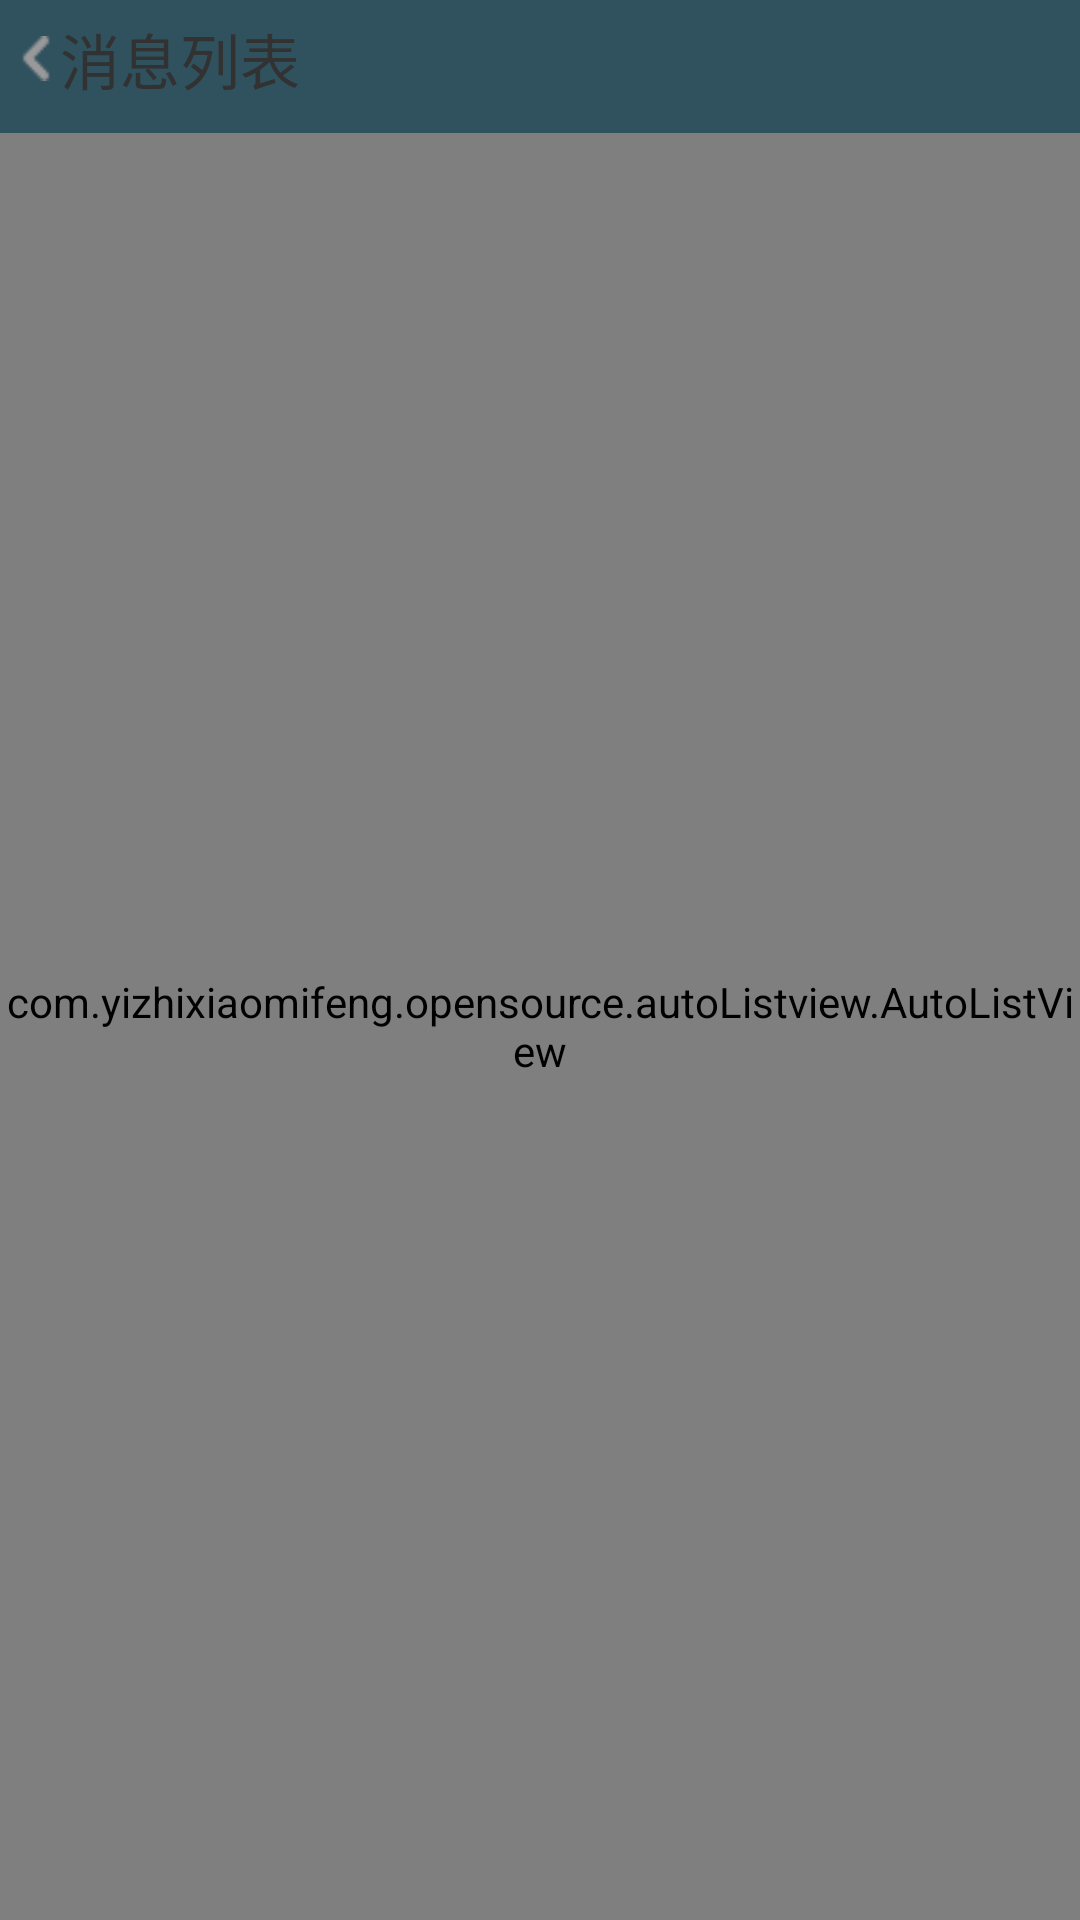

Named icons in this screenshot (1080px×1920px) and their bounding boxes, (x1, y1, x2, y2):
left: (23, 36, 49, 81)
